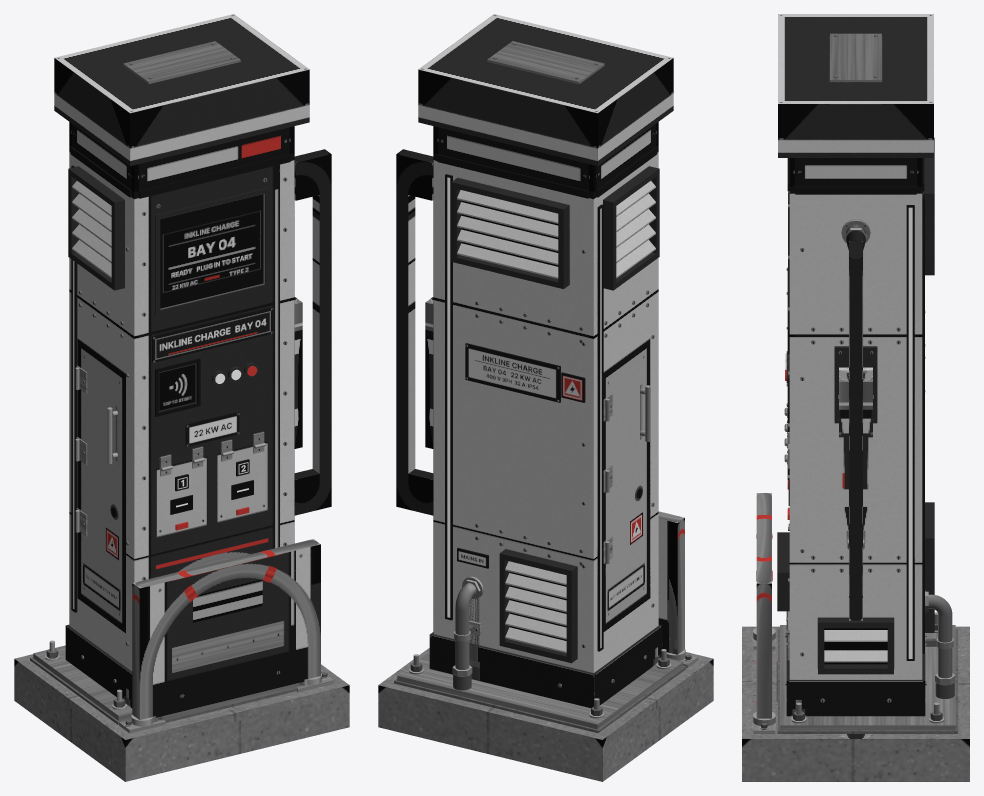
Rendered from evcharger-C0OKmK1L.glb.
3 renders of one model, left to right at view 1: azimuth 30°, elevation 25°; view 2: azimuth 150°, elevation 25°; view 3: azimuth 270°, elevation 25°, orthographic. The views are drawn at different scales.
Parts seen in each view (by area): view 1: farBaked, body, glow; view 2: farBaked, body, glow; view 3: farBaked, body, glow.
Part boxes in pixels (x1,y1,x2,y2): farBaked: [14, 14, 349, 781]; body: [14, 37, 349, 777]; glow: [73, 261, 270, 608]; farBaked: [378, 14, 713, 781]; body: [380, 37, 713, 781]; glow: [447, 177, 601, 648]; farBaked: [742, 14, 969, 781]; body: [742, 31, 969, 781]; glow: [785, 207, 912, 658].
Size of the model in its own units: 0.645 by 1.56 by 0.48.
3 materials, 3 textured.
